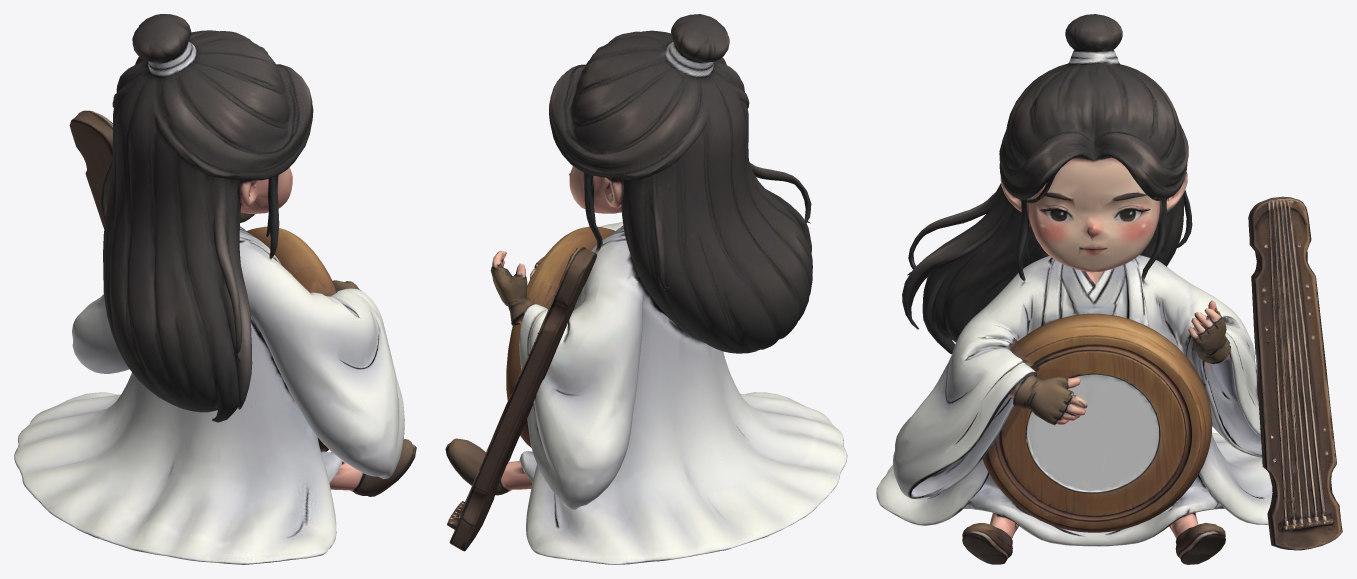
Rendered from n_w09_qin_player.glb.
3 renders of one model, left to right at view 1: azimuth 30°, elevation 25°; view 2: azimuth 150°, elevation 25°; view 3: azimuth 270°, elevation 25°, orthographic.
Parts seen in each view (by area): view 1: tripo_node_336ffcbb-0ce1-48d0-84b3-d1d93eb8f6d8; view 2: tripo_node_336ffcbb-0ce1-48d0-84b3-d1d93eb8f6d8; view 3: tripo_node_336ffcbb-0ce1-48d0-84b3-d1d93eb8f6d8.
Part boxes in pixels (x1=…): tripo_node_336ffcbb-0ce1-48d0-84b3-d1d93eb8f6d8: x1=14, y1=14, x2=416, y2=564; tripo_node_336ffcbb-0ce1-48d0-84b3-d1d93eb8f6d8: x1=445, y1=14, x2=847, y2=564; tripo_node_336ffcbb-0ce1-48d0-84b3-d1d93eb8f6d8: x1=876, y1=14, x2=1342, y2=564.
Bounding box in the file's own units: 0.6513 × 0.9801 × 0.875.
Materials: 1 (1 with a texture image).
